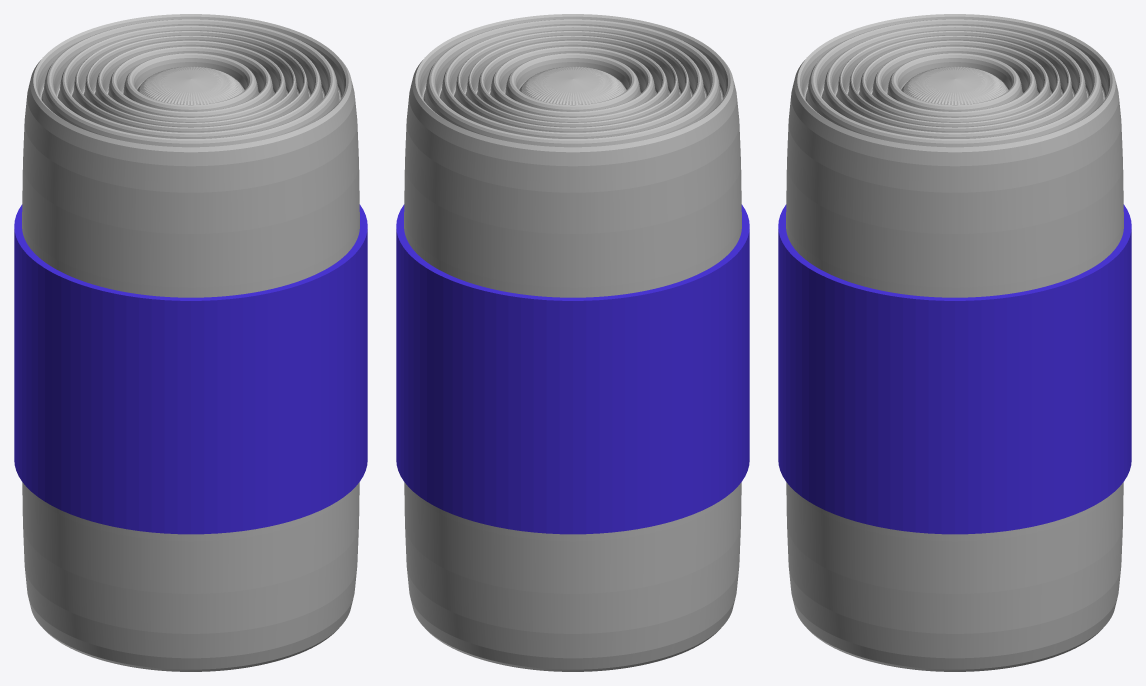
File: band - blue.fbx
3 views of the same model, side by side, from view 1: azimuth 30°, elevation 25°; view 2: azimuth 150°, elevation 25°; view 3: azimuth 270°, elevation 25° (orthographic).
Visible parts, largest first — view 1: Cylinder, Cylinder.001; view 2: Cylinder, Cylinder.001; view 3: Cylinder, Cylinder.001.
Boxes of the visible parts, x1,y1,x2,y2 form: Cylinder: [22, 14, 359, 671]; Cylinder.001: [14, 204, 367, 534]; Cylinder: [404, 14, 741, 671]; Cylinder.001: [396, 204, 749, 534]; Cylinder: [786, 14, 1123, 671]; Cylinder.001: [778, 204, 1131, 534].
Size of the model in its own units: 121 by 199 by 121.
